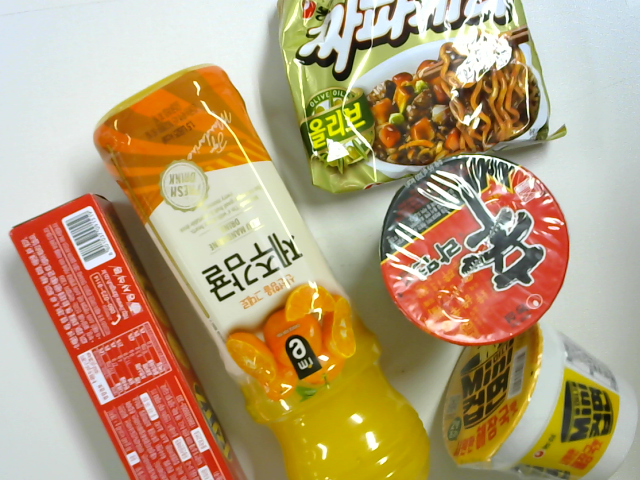Hejangmini: (435, 324, 637, 480)
Jeju_Tangerine_1.5L: (97, 64, 431, 480)
Olive_Chapaghetti: (273, 6, 567, 190)
Ritz_Cracker: (3, 190, 248, 480)
Sinramen_small: (381, 154, 573, 350)
